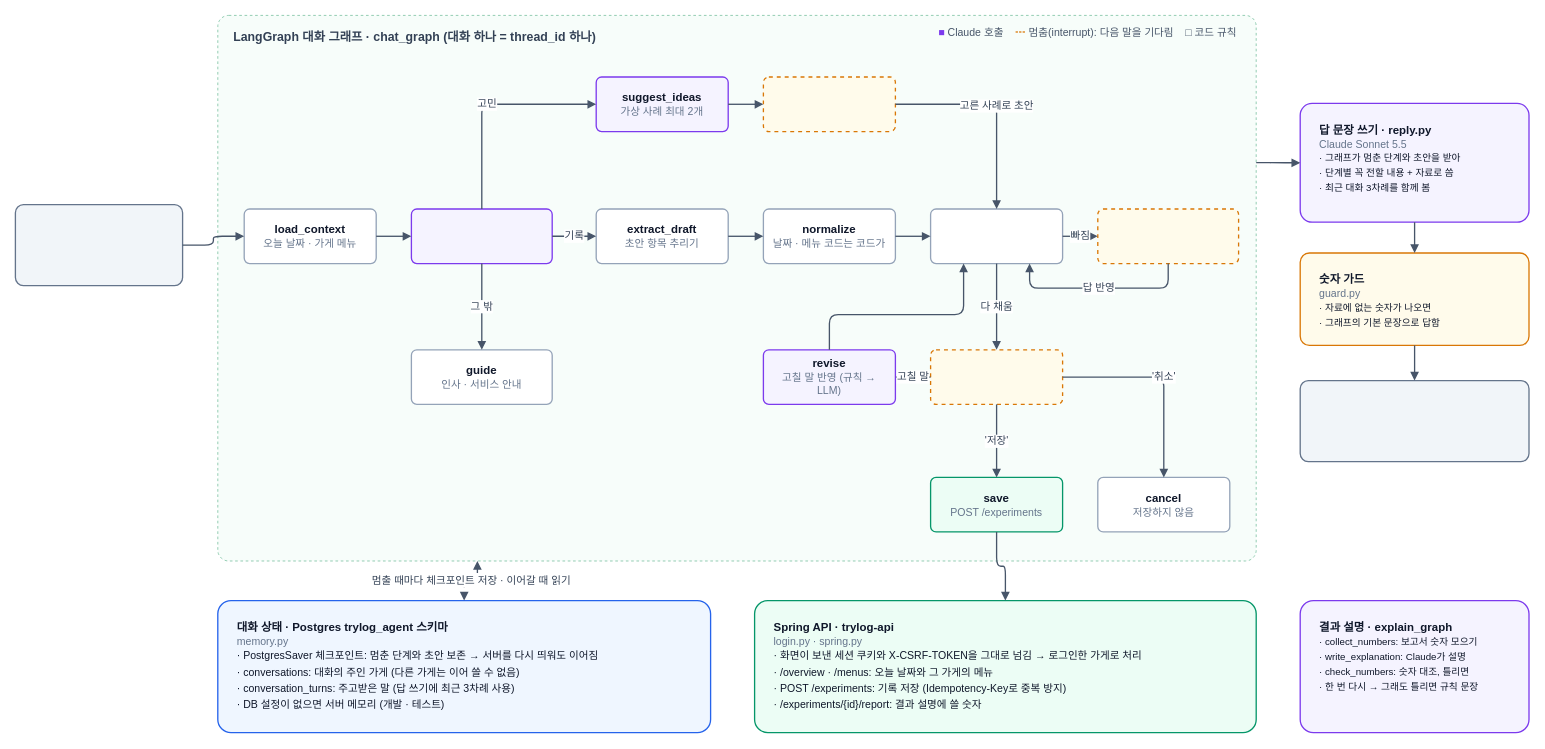
The diagram is 1545 pixels wide and 749 high, and some of its shapes have lost their labels. Each missing label, with the centre of its shape:
"ask_missing 빠진 항목 묻기 · 멈춤" goes at point 1168,236.
"await_idea 번호 고르기 · 멈춤" goes at point 829,104.
"classify_intent 기록 / 고민 / 그 밖" goes at point 481,236.
"confirm 초안 확인 · 멈춤" goes at point 996,377.
"validate Spring과 같은 규칙" goes at point 996,236.
"사장님 말 글 입력 · 음성(STT) POST /agent/chat" goes at point 98,245.
"응답 status · reply · draft · ideas 음성으로 물었으면 TTS로 읽어 줌" goes at point 1414,421.
